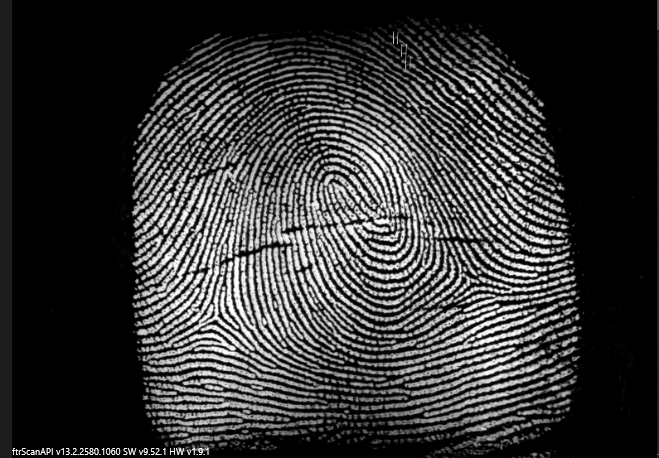nucelo: (324, 172, 355, 212)
verticilo: (447, 262, 484, 292), (201, 296, 228, 333)
